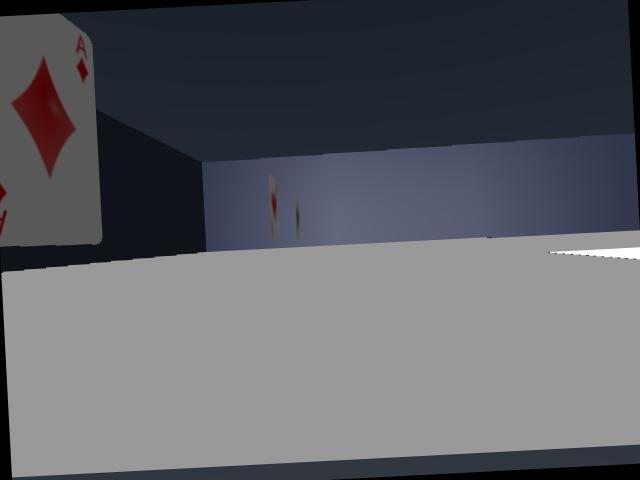diamond: (0, 13, 101, 246)
heart: (269, 175, 279, 238)
